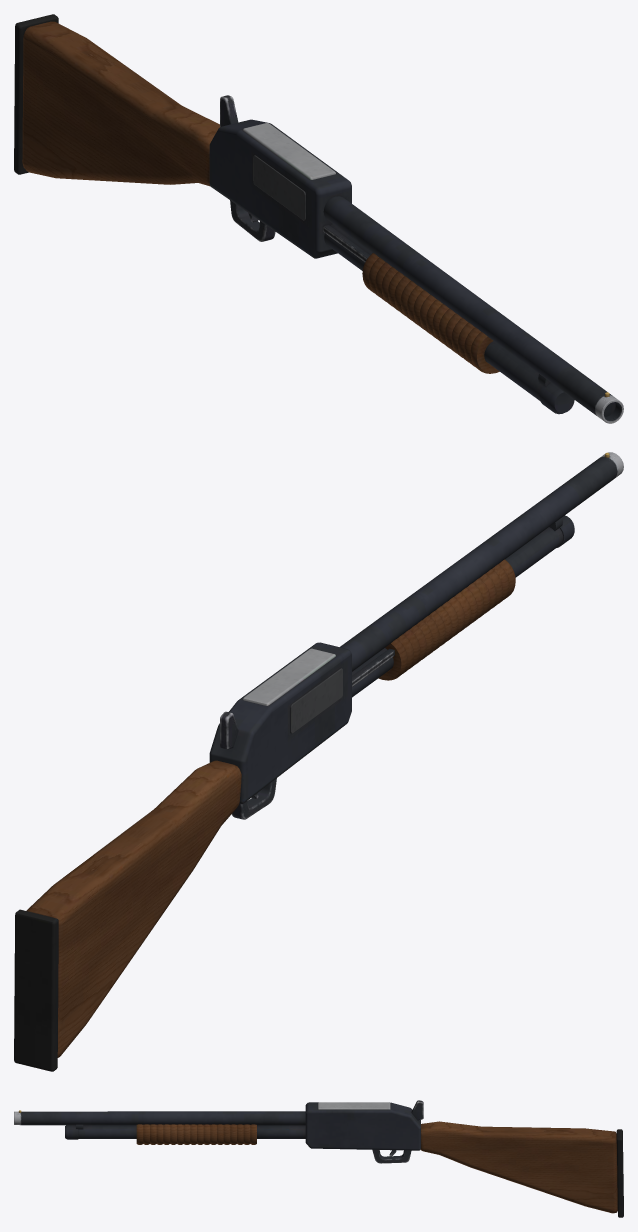
3 views of the same model, one above another, from view 1: azimuth 30°, elevation 25°; view 2: azimuth 150°, elevation 25°; view 3: azimuth 270°, elevation 25° (orthographic). The views are drawn at different scales.
Visible parts, largest first — view 1: body, bolt_mesh; view 2: body, bolt_mesh; view 3: body, bolt_mesh.
Boxes of the visible parts, bbox=[...] form: body: bbox=[14, 14, 623, 423]; bolt_mesh: bbox=[243, 123, 335, 179]; body: bbox=[14, 452, 623, 1071]; bolt_mesh: bbox=[243, 648, 335, 705]; body: bbox=[14, 1100, 623, 1217]; bolt_mesh: bbox=[318, 1102, 390, 1109].
Bounding box in the file's own units: 0.042 × 0.2036 × 1.
1 material, 1 textured.
